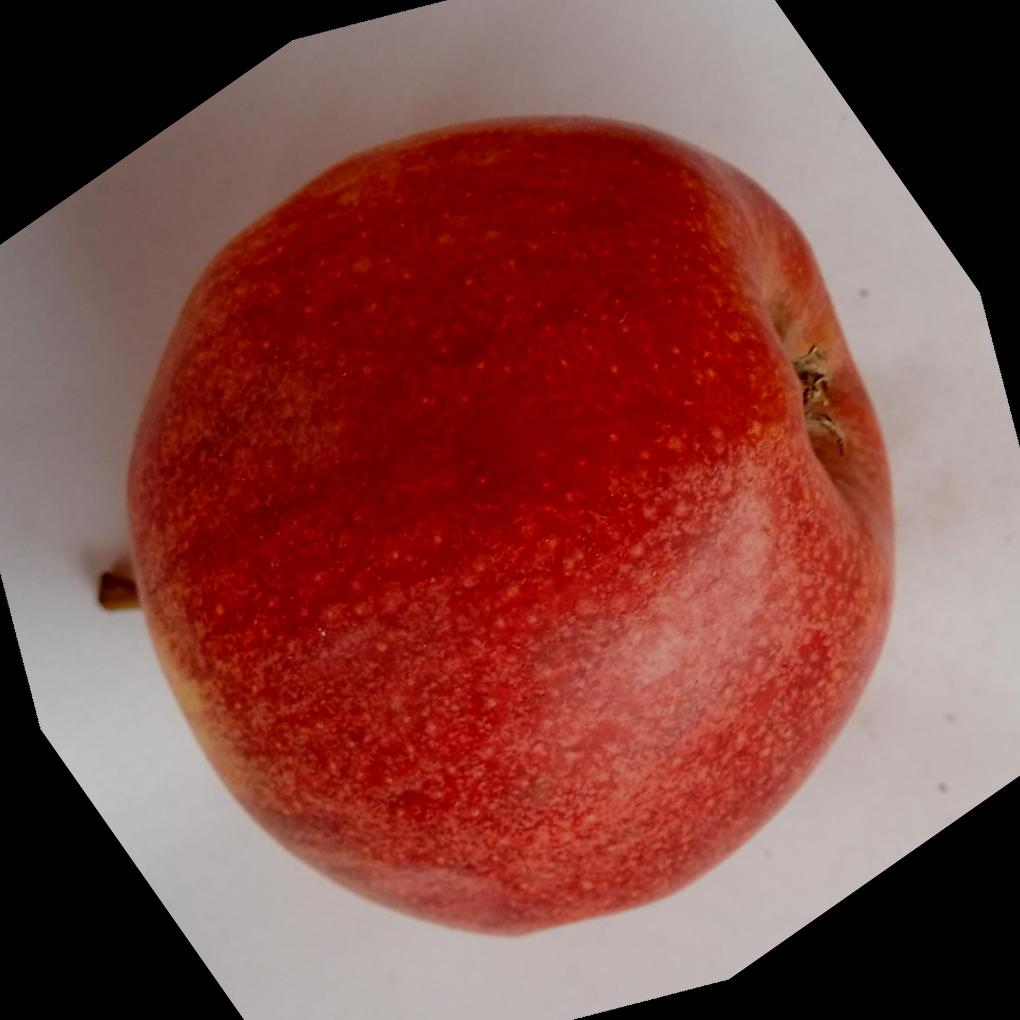FreshGuava: (124, 115, 901, 947)
